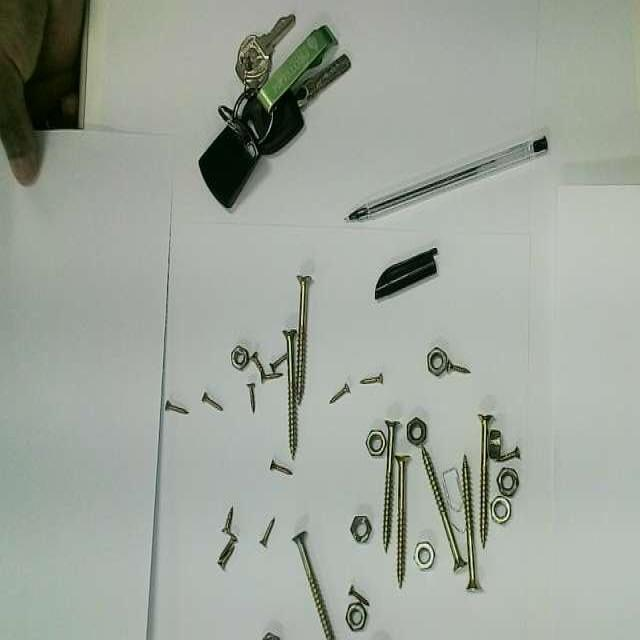Parafuso: (422, 447, 466, 571), (292, 531, 334, 639), (462, 455, 479, 591), (383, 420, 400, 551), (478, 415, 492, 547), (395, 456, 409, 587), (248, 352, 282, 383), (218, 535, 236, 569), (260, 518, 275, 547), (329, 383, 350, 403), (348, 586, 369, 606), (448, 359, 473, 374), (202, 392, 222, 410), (496, 447, 520, 462), (165, 400, 188, 414), (270, 460, 292, 474), (269, 354, 286, 371), (222, 507, 232, 534), (360, 374, 382, 383)
Porca: (497, 467, 518, 497), (414, 542, 434, 570), (346, 603, 366, 631), (366, 430, 386, 457), (351, 515, 371, 542), (407, 418, 426, 446), (491, 496, 510, 523), (426, 350, 447, 374), (231, 346, 248, 370)
